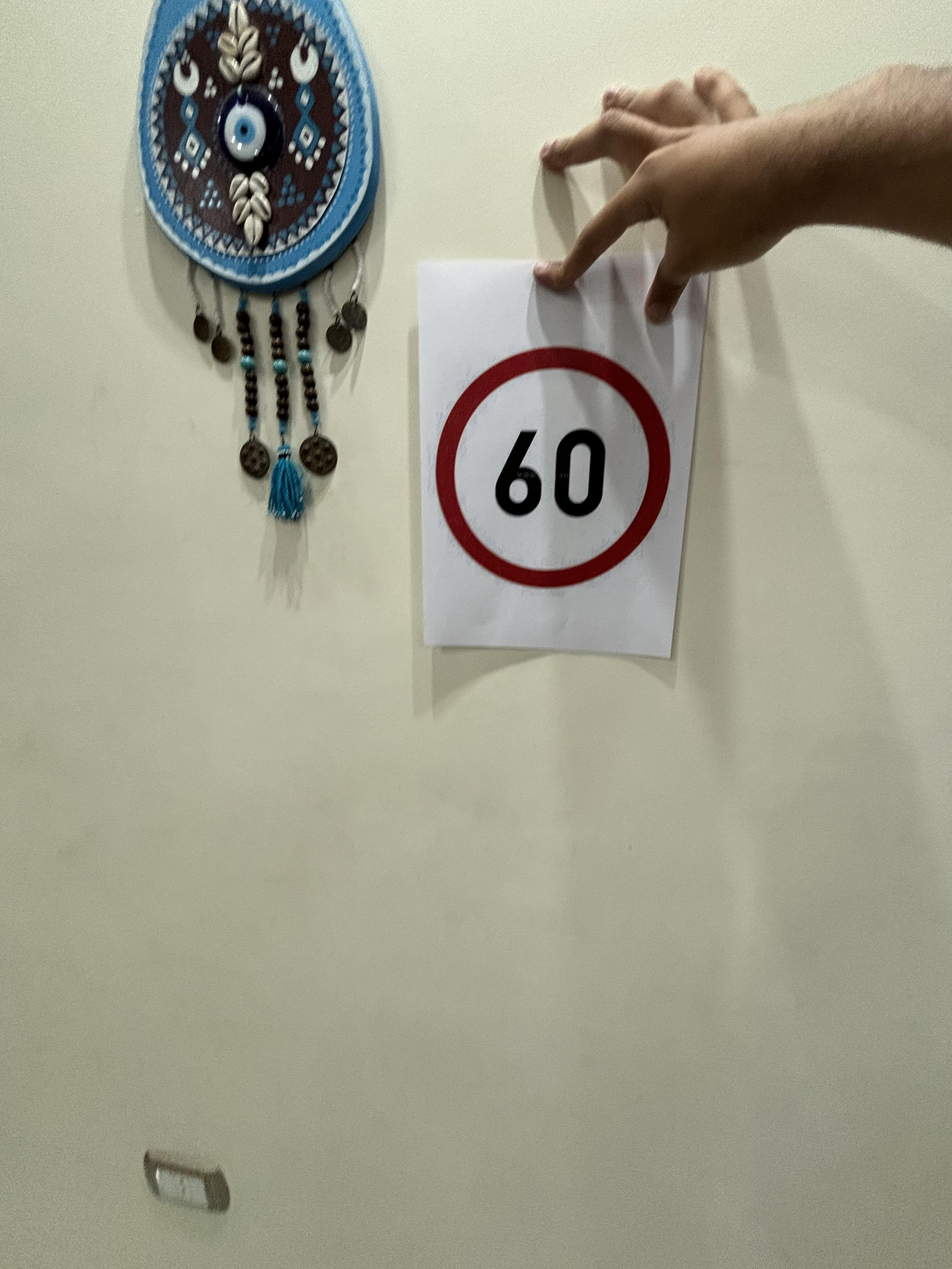60-Speed: (422, 344, 682, 598)
